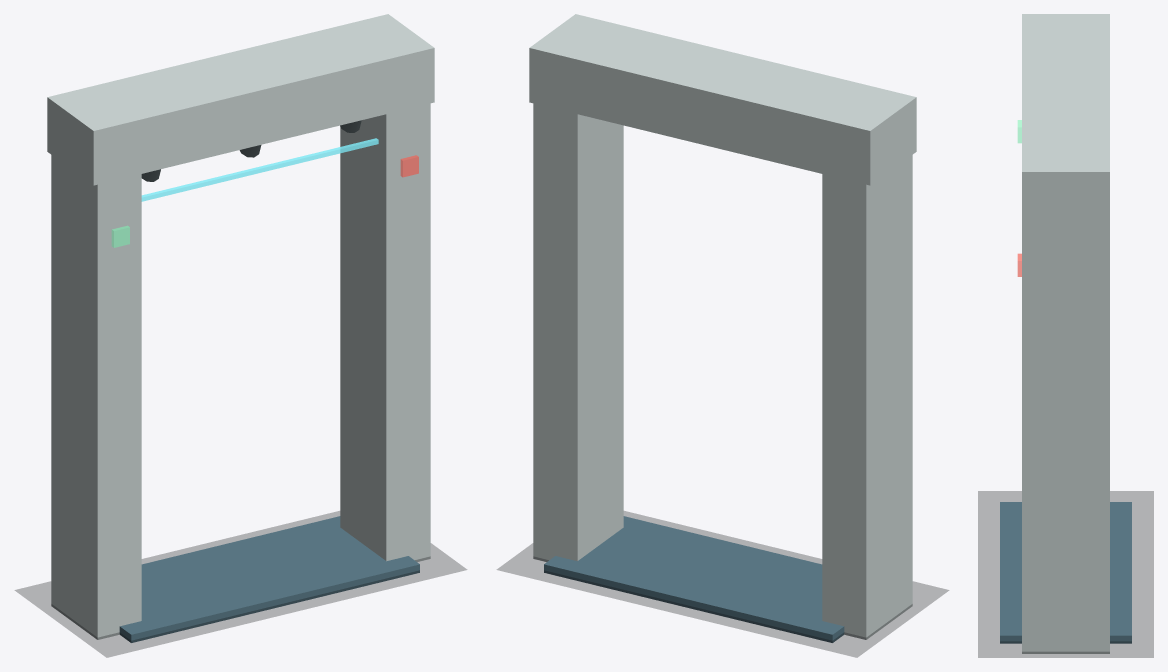
File: hp_room_rm_clinic_sedation_gate.glb
The picture shows the model from 3 angles, left to right: view 1: azimuth 30°, elevation 25°; view 2: azimuth 150°, elevation 25°; view 3: azimuth 270°, elevation 25°; orthographic projection. The views are drawn at different scales.
Parts seen in each view (by area): view 1: gate_post_l, gate_post_r, gate_lintel, floor_plate, contact_shadow, mist_line; view 2: gate_post_l, gate_post_r, gate_lintel, floor_plate, contact_shadow; view 3: gate_post_r, gate_lintel, contact_shadow, floor_plate.
Part boxes in pixels (<box>): gate_post_l: <box>51,155,141,639</box>; gate_post_r: <box>340,97,430,561</box>; gate_lintel: <box>47,14,434,185</box>; floor_plate: <box>119,516,419,642</box>; contact_shadow: <box>15,511,466,657</box>; mist_line: <box>141,138,378,201</box>; gate_post_l: <box>822,155,912,639</box>; gate_post_r: <box>533,97,623,561</box>; gate_lintel: <box>529,14,916,185</box>; floor_plate: <box>544,516,844,642</box>; contact_shadow: <box>497,511,948,657</box>; gate_post_r: <box>1022,223,1109,653</box>; gate_lintel: <box>1022,14,1109,223</box>; contact_shadow: <box>978,491,1153,657</box>; floor_plate: <box>1000,502,1131,643</box>.
Size of the model in its own units: 1.8 by 2.43 by 0.8.
